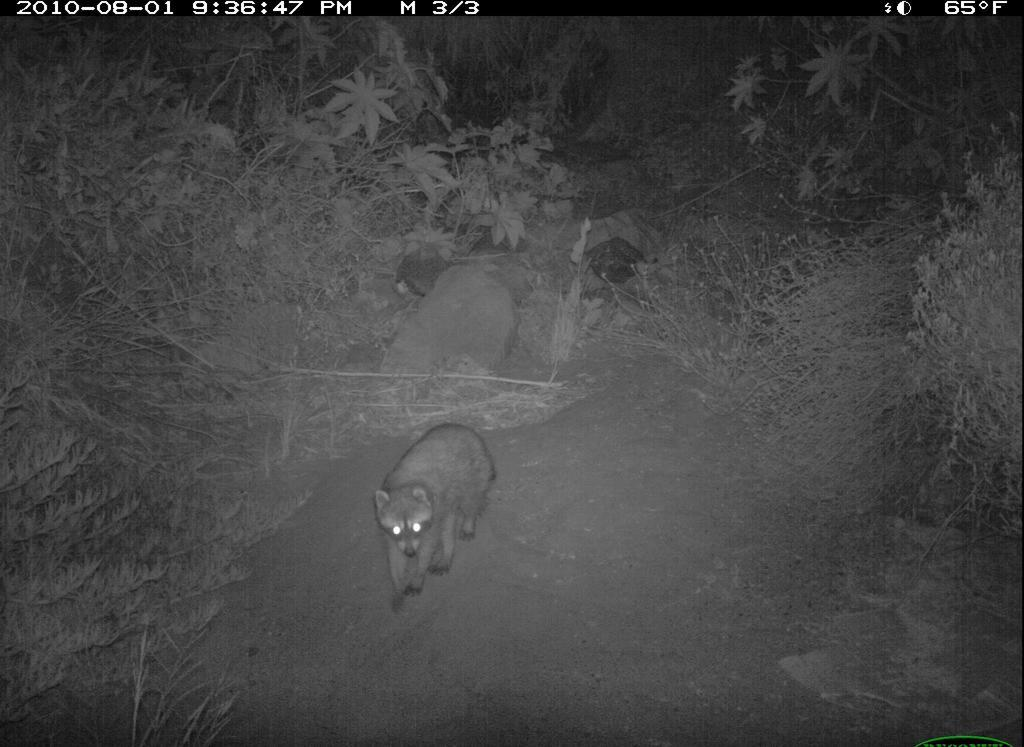raccoon: (365, 413, 507, 623)
